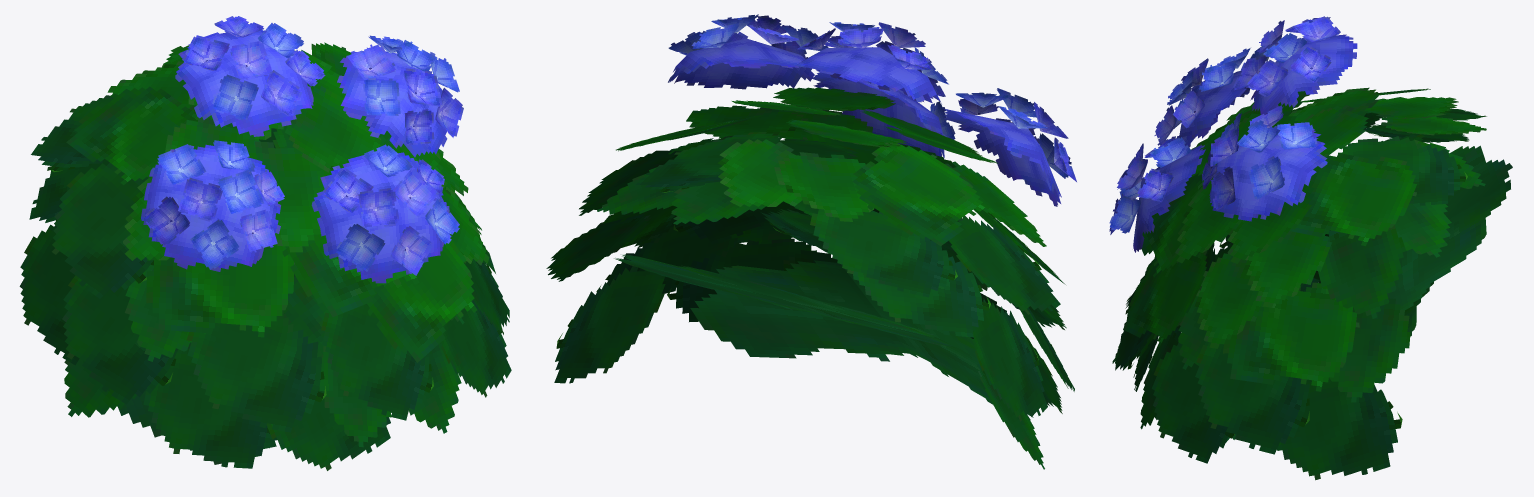
The model's file is blue-hydrangea.glb.
3 renders of one model, left to right at view 1: azimuth 30°, elevation 25°; view 2: azimuth 150°, elevation 25°; view 3: azimuth 270°, elevation 25°, orthographic. The views are drawn at different scales.
Size of the model in its own units: 11.09 by 9.41 by 9.52.
2 materials, 2 textured.
